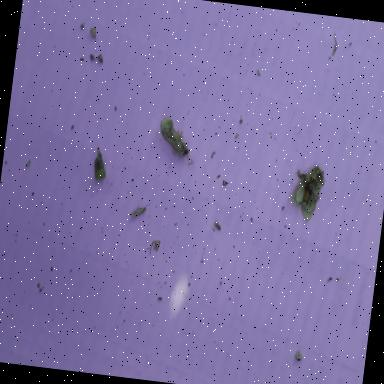pbw: (288, 160, 328, 224), (154, 113, 199, 168), (130, 200, 150, 220)
